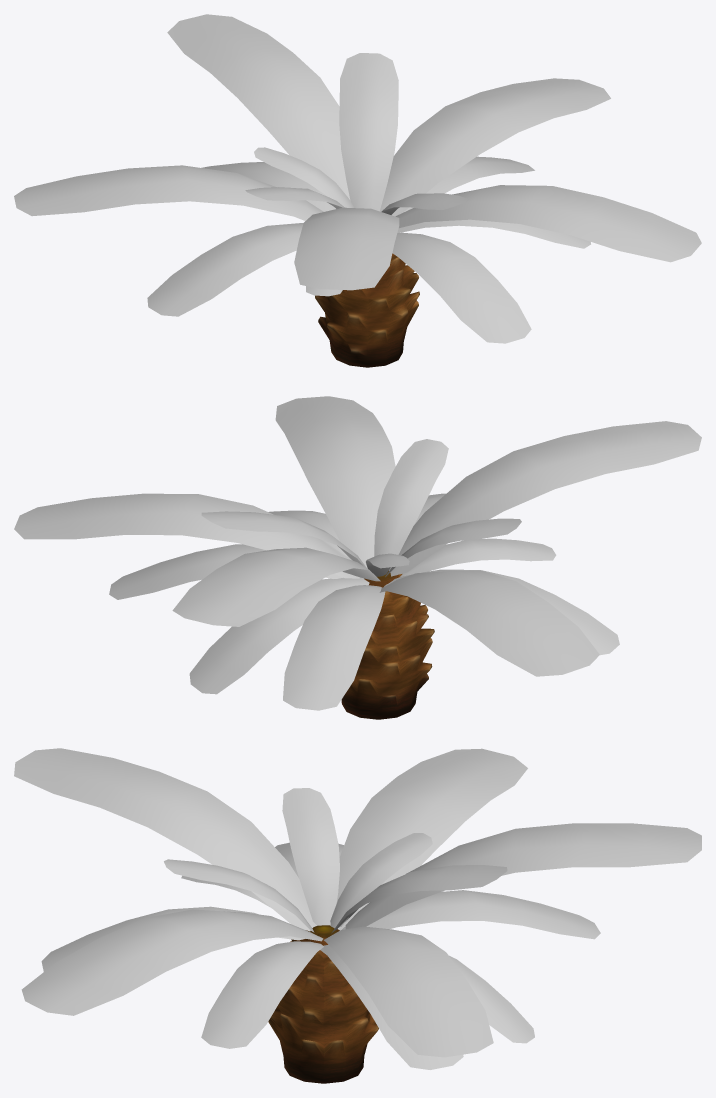
The model's file is Palm.fbx.
3 views of the same model, one above another, from view 1: azimuth 30°, elevation 25°; view 2: azimuth 150°, elevation 25°; view 3: azimuth 270°, elevation 25° (orthographic). The views are drawn at different scales.
Visible parts, largest first — view 1: Palm01; view 2: Palm01; view 3: Palm01.
Boxes of the visible parts, x1,y1,x2,y2 form: Palm01: (14, 14, 701, 367); Palm01: (14, 396, 701, 719); Palm01: (14, 748, 701, 1083).
Bounding box in the file's own units: 432 × 160 × 417.
